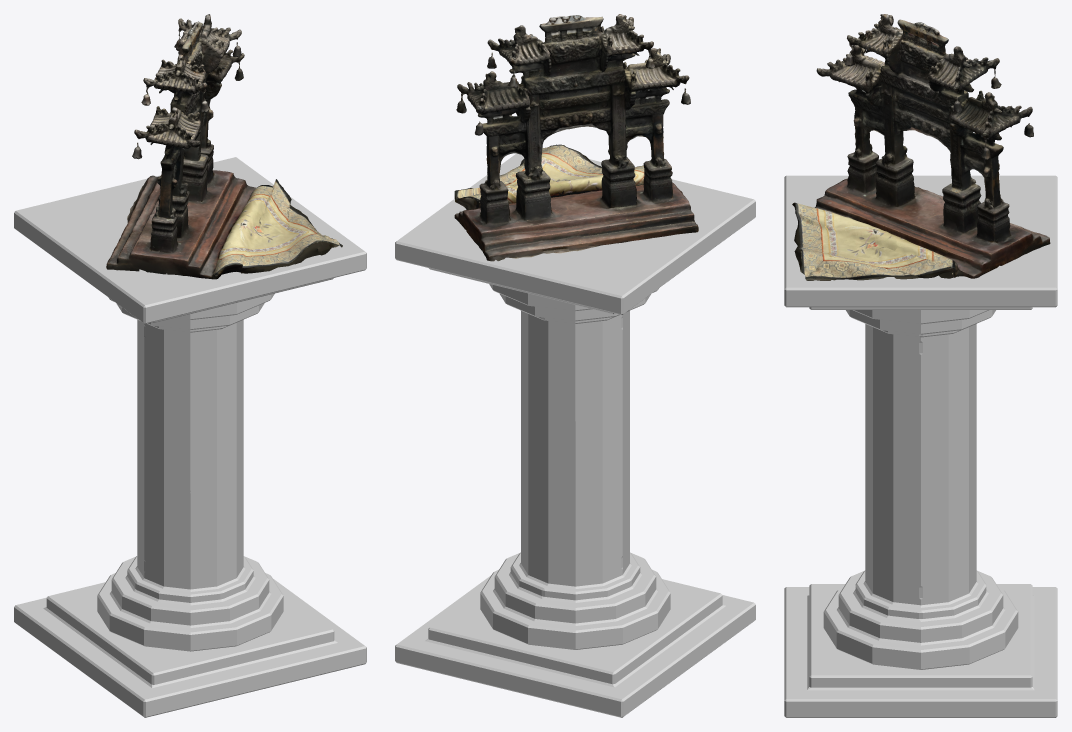
The model's file is arc.glb.
The picture shows the model from 3 angles, left to right: view 1: azimuth 30°, elevation 25°; view 2: azimuth 150°, elevation 25°; view 3: azimuth 270°, elevation 25°; orthographic projection. The views are drawn at different scales.
Parts seen in each view (by area): view 1: Circle_primitive_primitive, Object; view 2: Circle_primitive_primitive, Object; view 3: Circle_primitive_primitive, Object.
Part boxes in pixels (<box>): Circle_primitive_primitive: <box>14,157,366,717</box>; Object: <box>106,14,342,279</box>; Circle_primitive_primitive: <box>395,147,755,717</box>; Object: <box>454,14,698,261</box>; Circle_primitive_primitive: <box>784,175,1057,717</box>; Object: <box>792,14,1050,280</box>.
Size of the model in its own units: 1.08 by 2.9 by 1.1.
6 materials, 5 textured.
